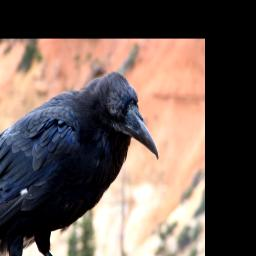Crow: (0, 66, 160, 256)
